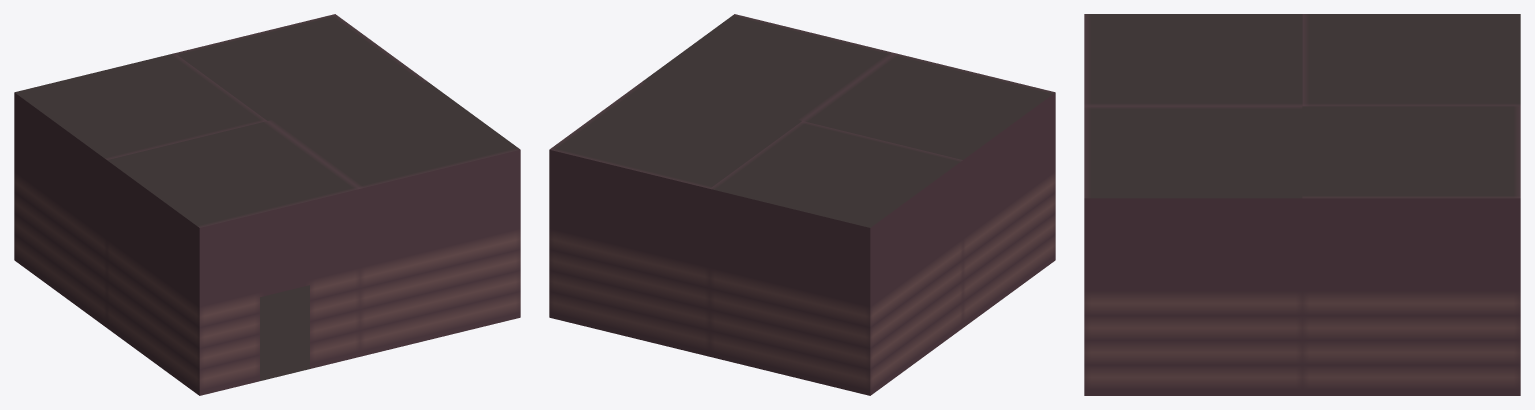
The model's file is shop_1.fbx.
3 renders of one model, left to right at view 1: azimuth 30°, elevation 25°; view 2: azimuth 150°, elevation 25°; view 3: azimuth 270°, elevation 25°, orthographic. The views are drawn at different scales.
Visible parts, largest first — view 1: plane_14, plane_15, plane_4, plane_9, plane_12, plane_13, plane_10, plane_11, plane_7, plane_6; view 2: plane_1, plane_3, plane_9, plane_4, plane_12, plane_13, plane_11, plane_10; view 3: plane_5, plane_8, plane_10, plane_12, plane_11, plane_13.
Boxes of the visible parts, x1,y1,x2,y2 form: plane_14: [360, 149, 520, 356]; plane_15: [199, 189, 360, 395]; plane_4: [14, 92, 106, 327]; plane_9: [107, 160, 199, 395]; plane_12: [175, 14, 427, 120]; plane_13: [268, 82, 519, 188]; plane_10: [107, 121, 359, 227]; plane_11: [15, 53, 266, 159]; plane_7: [260, 294, 309, 380]; plane_6: [274, 285, 309, 319]; plane_1: [709, 189, 870, 395]; plane_3: [549, 149, 709, 356]; plane_9: [963, 92, 1055, 327]; plane_4: [870, 160, 962, 395]; plane_12: [550, 82, 801, 188]; plane_13: [642, 14, 894, 120]; plane_11: [710, 121, 962, 227]; plane_10: [803, 53, 1054, 159]; plane_5: [1302, 198, 1520, 395]; plane_8: [1084, 198, 1302, 395]; plane_10: [1084, 14, 1302, 106]; plane_12: [1302, 106, 1520, 198]; plane_11: [1302, 14, 1520, 106]; plane_13: [1084, 106, 1302, 198].
Bounding box in the file's own units: 200 × 100 × 200.
1 material, 1 textured.
